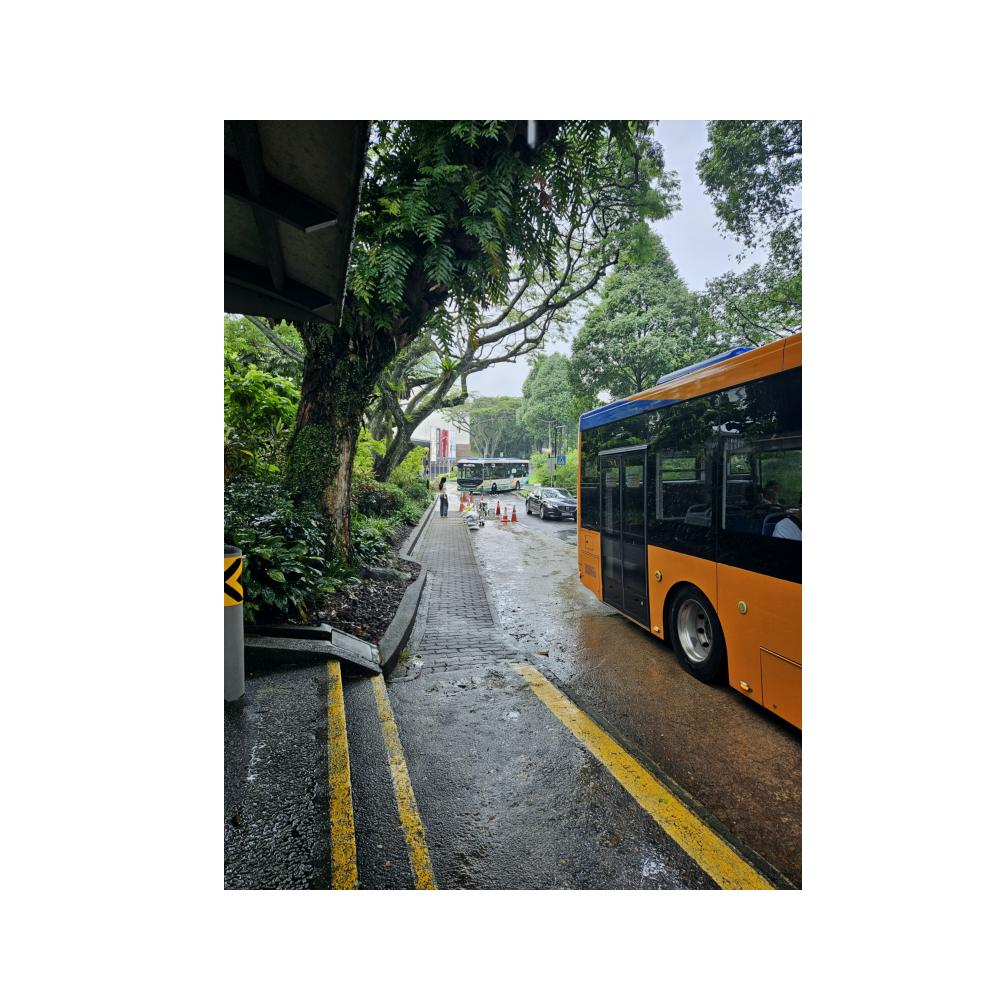bus: (576, 331, 799, 738), (455, 455, 530, 496)
